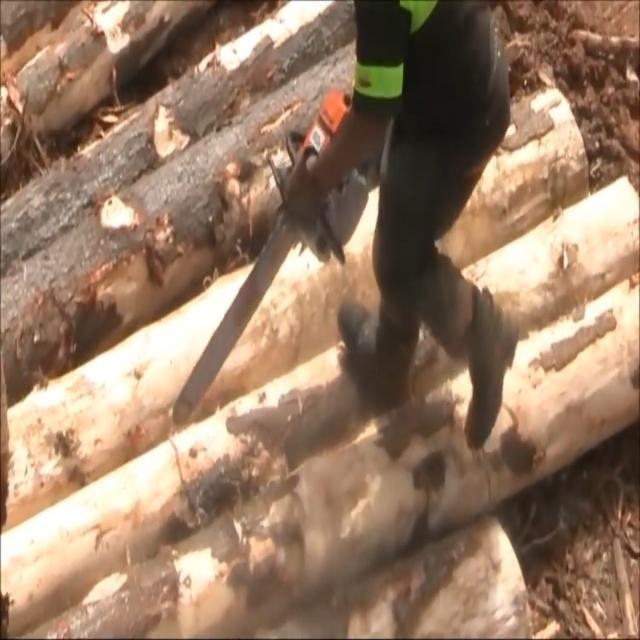Chainsaw: (168, 71, 384, 445)
